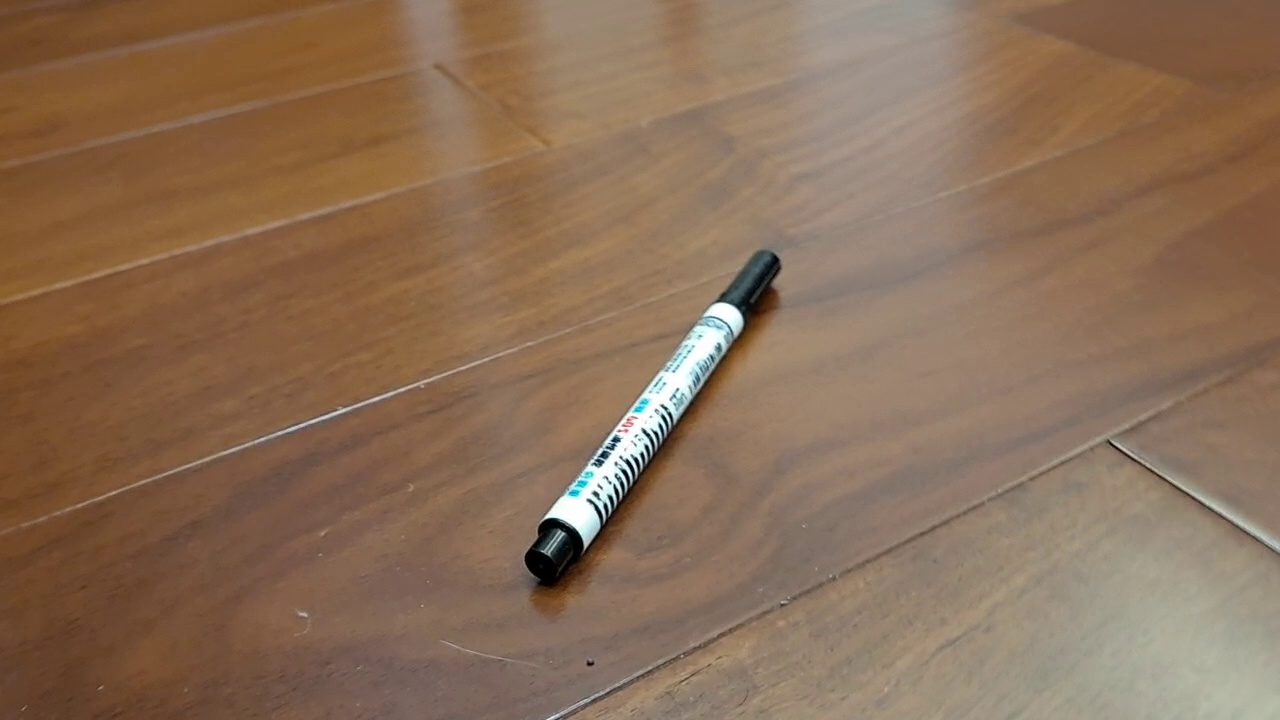pen: (524, 248, 782, 586)
